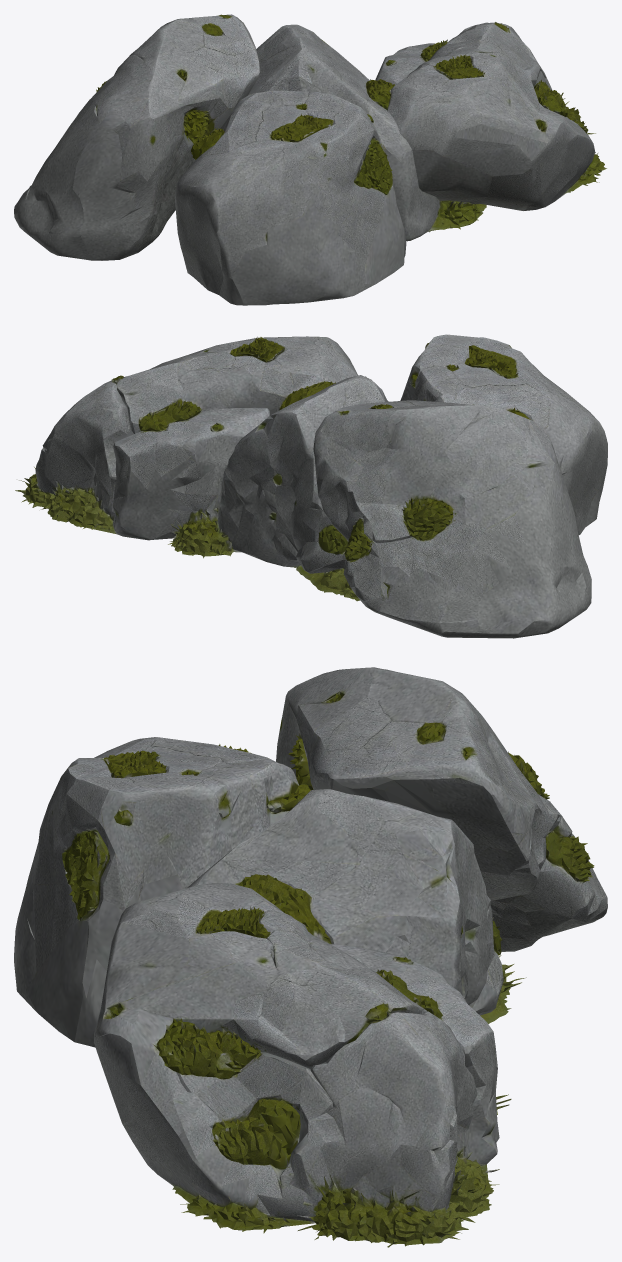
Rendered from boulders.glb.
3 renders of one model, top to bottom at view 1: azimuth 30°, elevation 25°; view 2: azimuth 150°, elevation 25°; view 3: azimuth 270°, elevation 25°, orthographic. The views are drawn at different scales.
Size of the model in its own units: 1.9 by 0.6019 by 1.18.
Materials: 1 (1 with a texture image).
